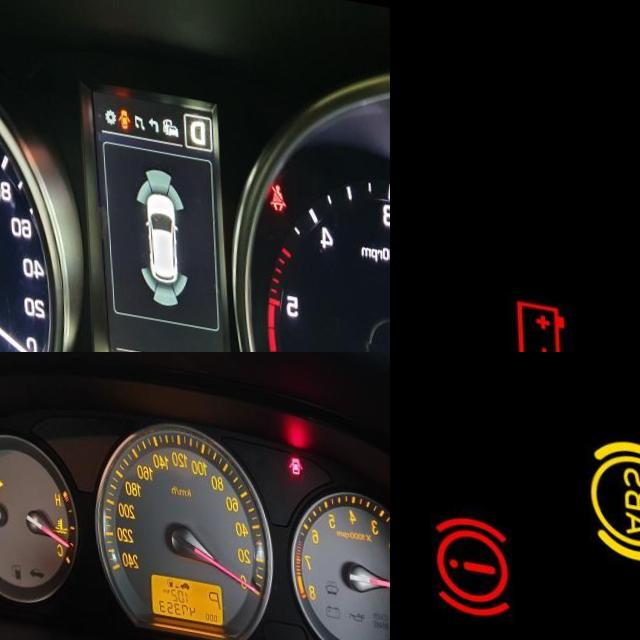Doors: (118, 98, 131, 121), (288, 440, 302, 460)
